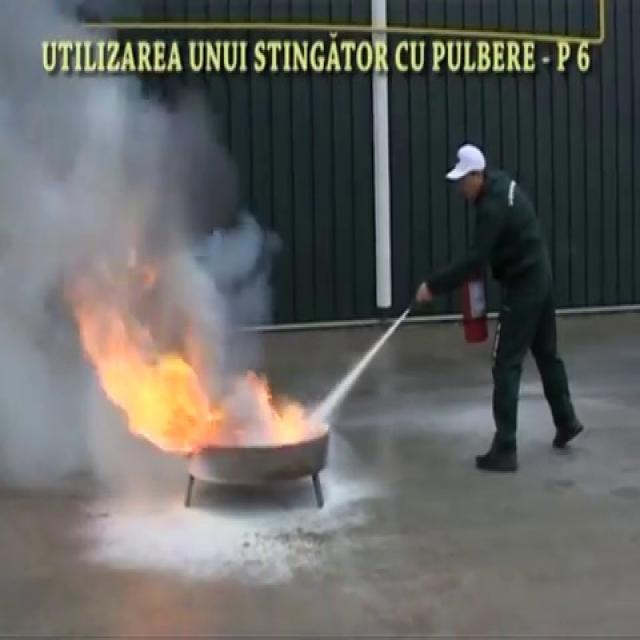Fire: (88, 312, 226, 460), (256, 372, 308, 452)
Smoke: (0, 0, 259, 466)
